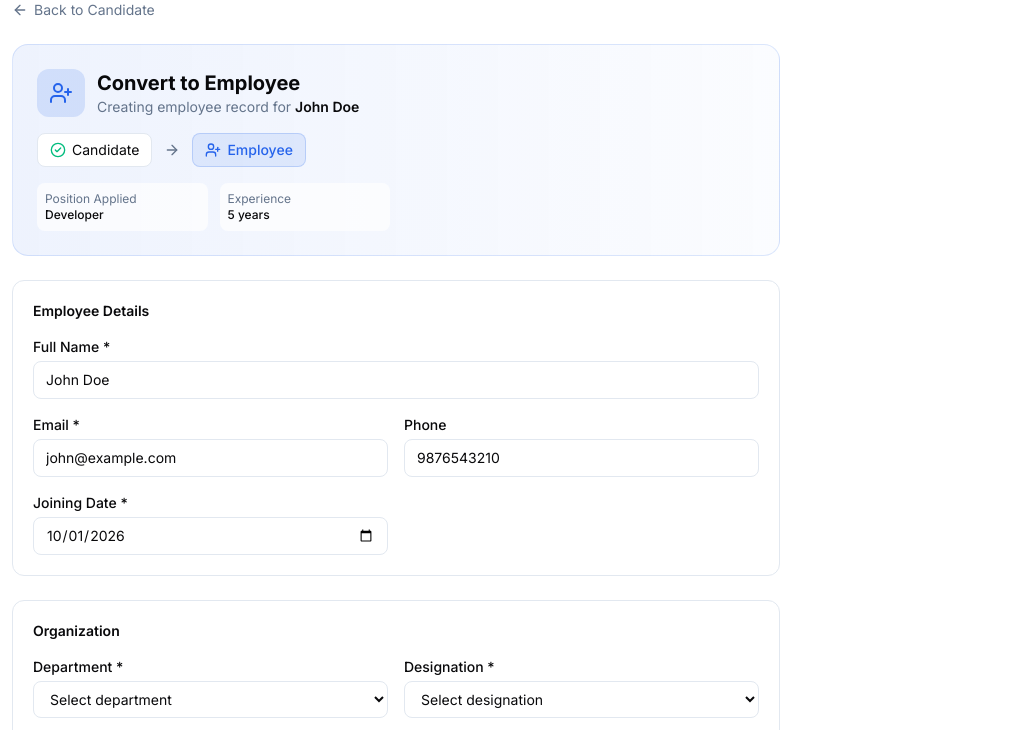
Test case: Convert Candidate Page › should show validation errors on submit empty required fields
Expected: the text "John Doe" is shown, x1=295 y1=98 x2=359 y2=115
Clear pre-filled name to trigger error
Clear the field showing "John Doe" below "Full Name *": x=396, y=380 x1=33 y1=361 x2=759 y2=399
(page scrolled)
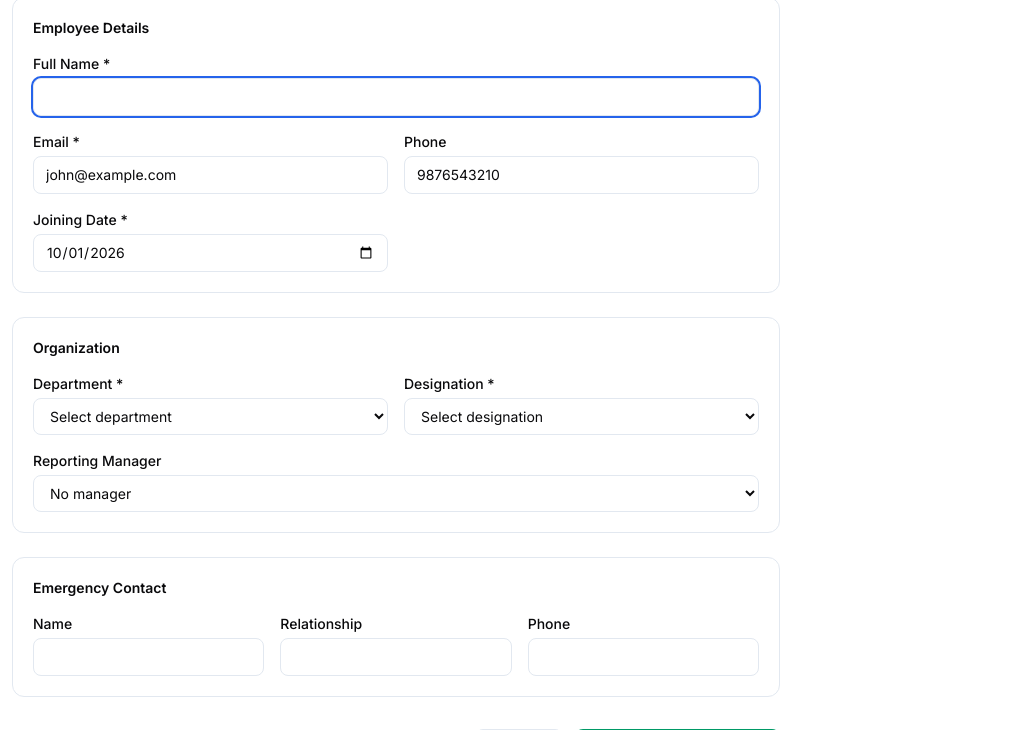
Submit the form named "Convert to Employee"
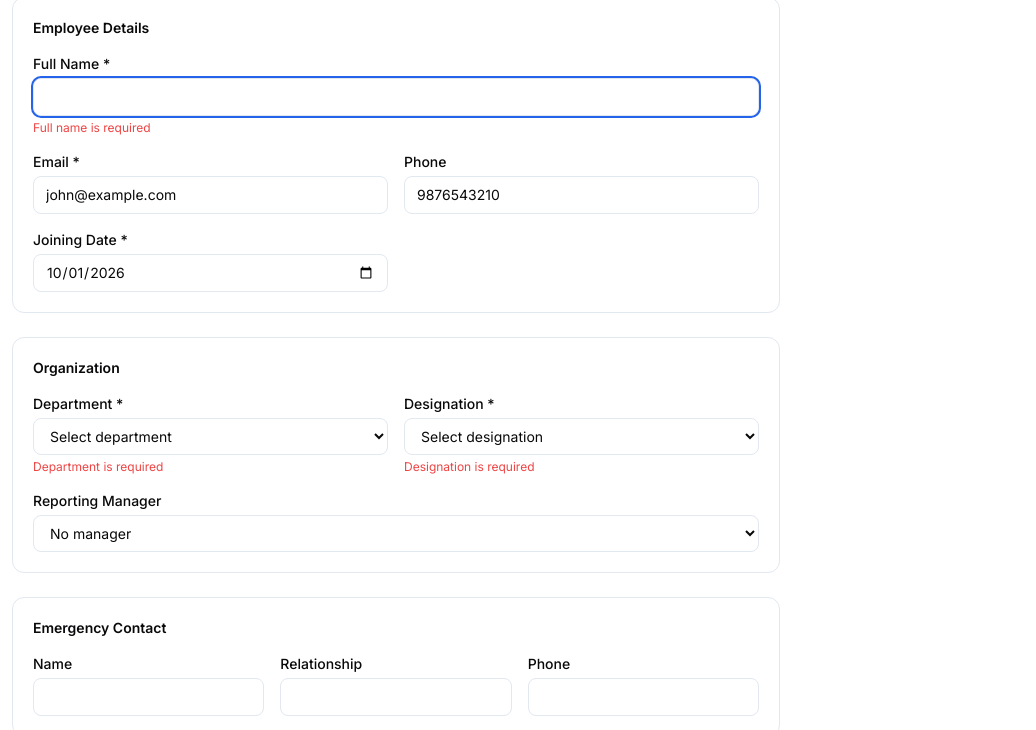
Result: the text "Full name is required" is shown at x1=33 y1=120 x2=151 y2=135
